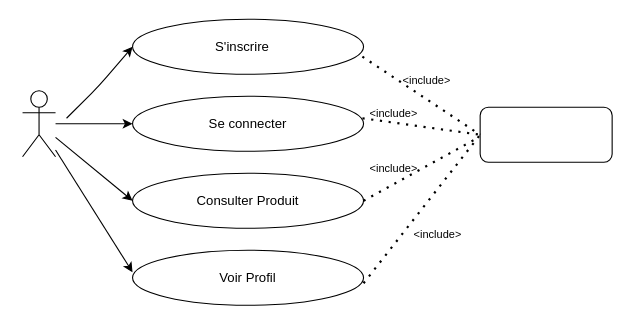
This 631x325 diagram has some shape labels left out. The shapes that lost their labels are listed below. From the top down, each one's centre as x and y in pixels, then its label:
the point at 38,123: Clients
the point at 545,134: S’authentifier
